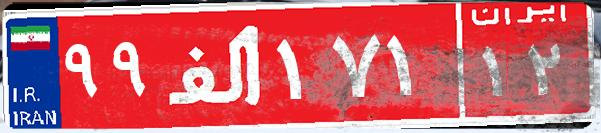1: (385, 28, 445, 110), (273, 28, 330, 110), (475, 38, 525, 113)
2: (525, 38, 570, 115)
7: (330, 28, 385, 110)
9: (57, 26, 110, 107), (110, 28, 158, 105)
الف: (158, 15, 273, 115)
